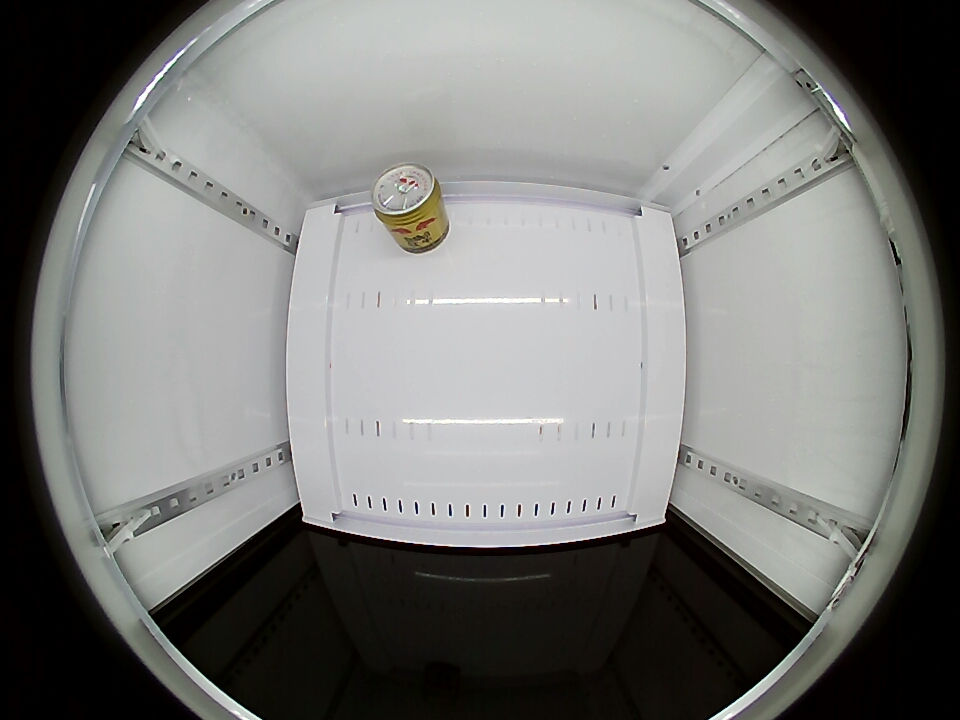hongniu2: (372, 163, 444, 233)
